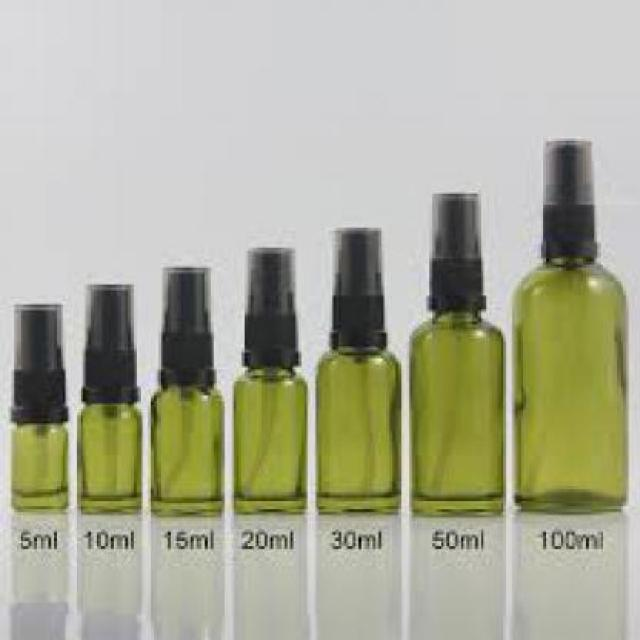GLASS: (509, 256, 626, 509), (406, 305, 506, 512), (312, 347, 398, 511), (228, 365, 304, 509), (150, 384, 222, 511), (78, 401, 139, 510), (12, 421, 66, 510)
PLASTIC: (5, 302, 66, 422), (327, 222, 384, 348), (424, 190, 484, 308), (80, 278, 134, 402), (239, 245, 293, 368), (540, 134, 592, 261), (156, 262, 209, 384)
